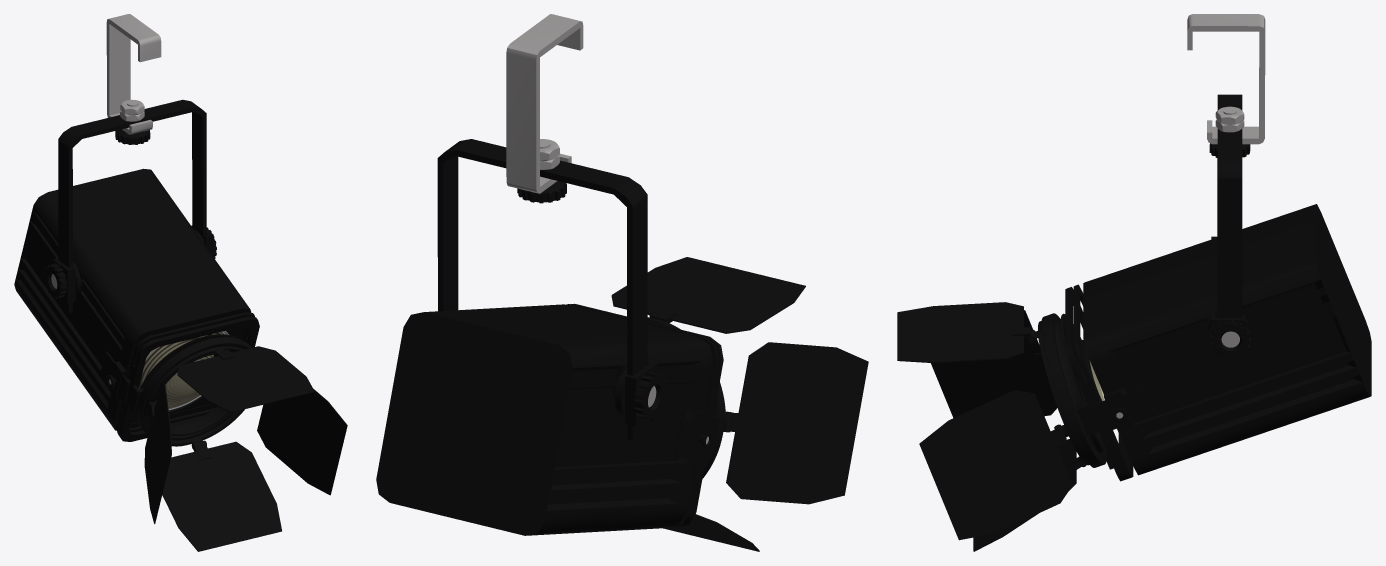
The picture shows the model from 3 angles, left to right: view 1: azimuth 30°, elevation 25°; view 2: azimuth 150°, elevation 25°; view 3: azimuth 270°, elevation 25°; orthographic projection. The views are drawn at different scales.
Parts seen in each view (by area): view 1: Cube, hanger, bd bottom, bd left, bd top, ring.001, bd right, lens; view 2: Cube, hanger, bd right, bd top, bd bottom, ring.001; view 3: Cube, bd left, hanger, bd top, bd right, ring.001, bd bottom.
Part boxes in pixels (x1,y1,x2,y2): Cube: (14,168,259,441); hanger: (44,14,216,313); bd bottom: (162,441,281,551); bd left: (257,389,347,495); bd top: (177,346,314,412); ring.001: (136,334,251,446); bd right: (144,381,171,524); lens: (139,331,228,410); Cube: (376,303,723,535); hanger: (437,14,666,440); bd right: (726,342,868,504); bd top: (611,257,805,333); bd bottom: (663,514,759,551); ring.001: (647,317,727,478); Cube: (1065,204,1371,481); bd left: (919,390,1072,540); hanger: (1187,14,1265,371); bd top: (897,302,1030,363); bd right: (931,310,1057,417); ring.001: (1034,313,1109,467); bd bottom: (973,439,1081,551).
Size of the model in its own units: 2.98 by 6.96 by 5.88.
Materials: 4 (1 with a texture image).
